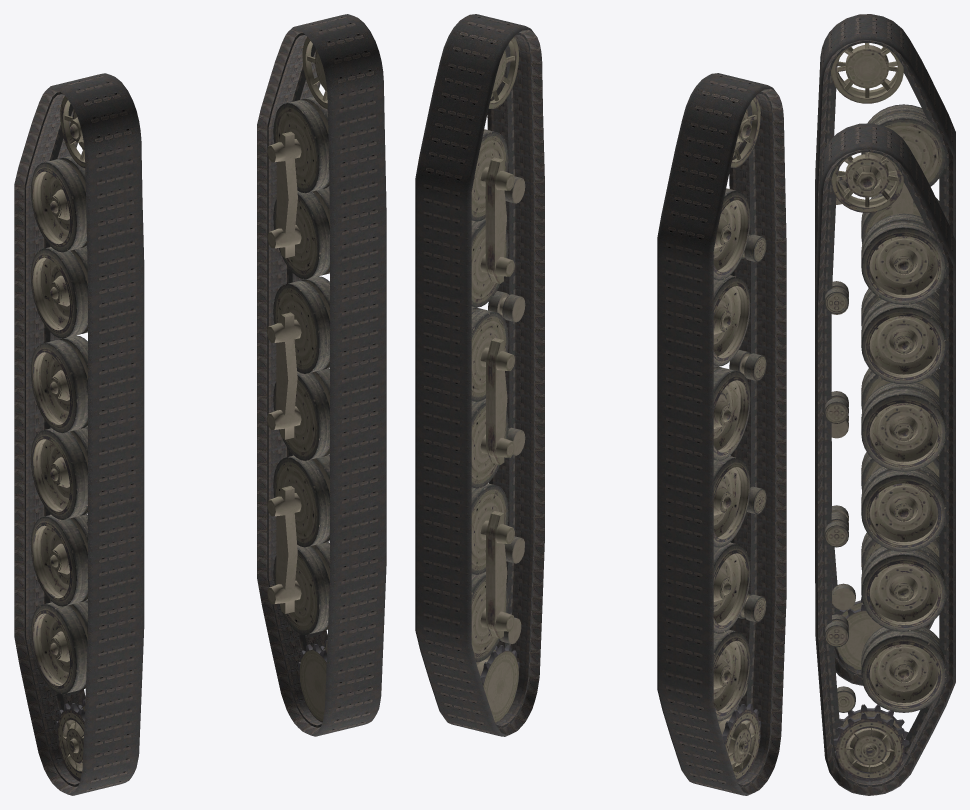
File: Chassis.glb
3 renders of one model, left to right at view 1: azimuth 30°, elevation 25°; view 2: azimuth 150°, elevation 25°; view 3: azimuth 270°, elevation 25°, orthographic. The views are drawn at different scales.
Parts seen in each view (by area): view 1: set_3_group_0, set_2_group_0, set_0_group_0, set_1_group_0; view 2: set_3_group_0, set_2_group_0, set_0_group_0, set_1_group_0; view 3: set_0_group_0, set_2_group_0, set_1_group_0, set_3_group_0.
Boxes of the visible parts, <box> form: set_3_group_0: <box>14,73,144,795</box>; set_2_group_0: <box>257,14,386,736</box>; set_0_group_0: <box>267,36,329,722</box>; set_1_group_0: <box>30,96,87,781</box>; set_3_group_0: <box>657,73,786,795</box>; set_2_group_0: <box>415,14,544,736</box>; set_0_group_0: <box>471,37,525,723</box>; set_1_group_0: <box>713,96,766,781</box>; set_0_group_0: <box>824,152,946,781</box>; set_2_group_0: <box>815,123,955,795</box>; set_1_group_0: <box>831,42,946,670</box>; set_3_group_0: <box>815,14,955,685</box>.
Bounding box in the file's own units: 3.23 × 7.27 × 1.43.
4 materials, 4 textured.
